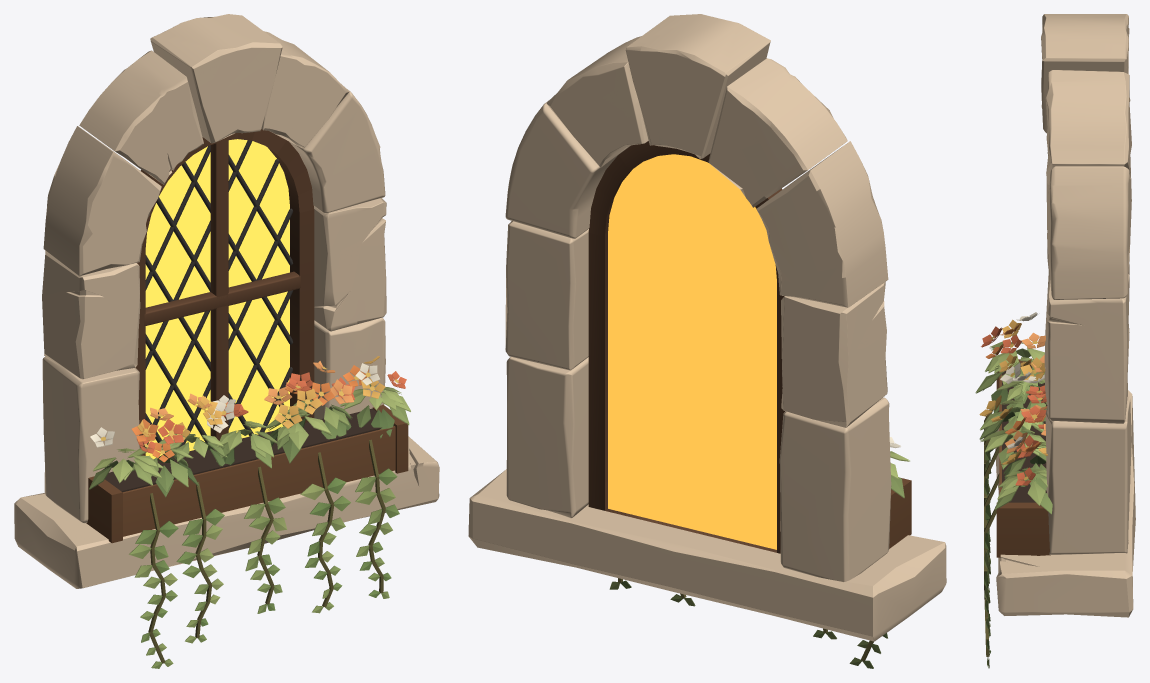
The model's file is window_with_plants.glb.
The picture shows the model from 3 angles, left to right: view 1: azimuth 30°, elevation 25°; view 2: azimuth 150°, elevation 25°; view 3: azimuth 270°, elevation 25°; orthographic projection. The views are drawn at different scales.
Parts seen in each view (by area): view 1: flower_box, panes, stones, stones.014, stones.018, stones.006, stones.005, stones.016, stones.012, frame.001, stones.022, stones.020 (+13 smaller); view 2: panes, stones, stones.006, stones.014, stones.018, stones.005, stones.016, stones.008, stones.012, frame.001, stones.022, stones.020 (+1 smaller); view 3: flower_box, stones.008, stones.022, stones.012, stones, stones.020, stones.018, stones.005.
Part boxes in pixels (bbox=[...]): flower_box: bbox=[86, 356, 410, 668]; panes: bbox=[145, 139, 289, 459]; stones: bbox=[14, 436, 439, 588]; stones.014: bbox=[43, 126, 161, 276]; stones.018: bbox=[150, 14, 282, 143]; stones.006: bbox=[42, 356, 139, 523]; stones.005: bbox=[42, 250, 140, 379]; stones.016: bbox=[79, 50, 203, 184]; stones.012: bbox=[314, 198, 386, 331]; frame.001: bbox=[135, 129, 314, 455]; stones.022: bbox=[289, 90, 385, 213]; stones.020: bbox=[261, 31, 349, 147]; panes: bbox=[608, 154, 776, 549]; stones: bbox=[468, 469, 946, 641]; stones.006: bbox=[779, 397, 891, 581]; stones.014: bbox=[756, 141, 888, 307]; stones.018: bbox=[625, 14, 770, 158]; stones.005: bbox=[781, 282, 887, 427]; stones.016: bbox=[708, 58, 847, 207]; stones.008: bbox=[506, 356, 588, 518]; stones.012: bbox=[505, 221, 588, 370]; frame.001: bbox=[588, 141, 784, 553]; stones.022: bbox=[505, 100, 630, 238]; stones.020: bbox=[546, 36, 648, 167]; flower_box: bbox=[975, 312, 1052, 668]; stones.008: bbox=[1045, 396, 1131, 554]; stones.022: bbox=[1047, 166, 1130, 299]; stones.012: bbox=[1044, 273, 1129, 423]; stones: bbox=[995, 390, 1135, 617]; stones.020: bbox=[1045, 70, 1131, 184]; stones.018: bbox=[1041, 14, 1128, 133]; stones.005: bbox=[1046, 157, 1131, 284].
Size of the model in its own units: 1.44 by 2.15 by 0.5272.
